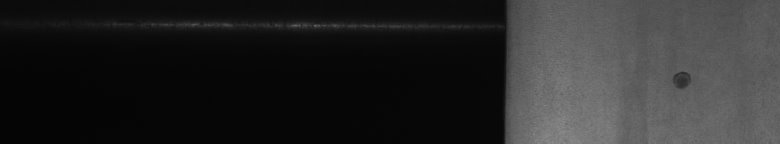fi: (669, 64, 693, 96)
